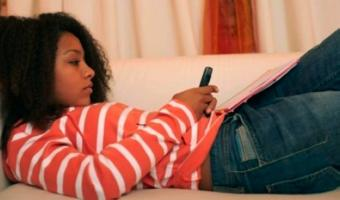person: (1, 13, 339, 200)
